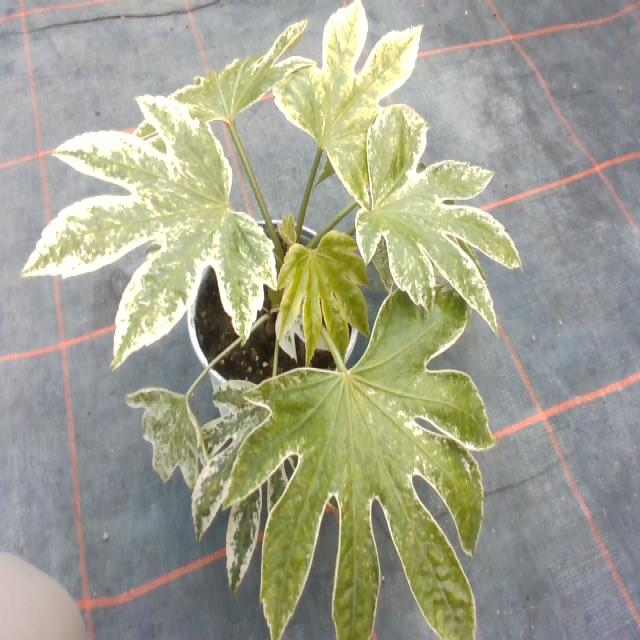Fatsia-japonica: (214, 284, 534, 640), (26, 82, 273, 364), (350, 96, 522, 341), (269, 1, 420, 216), (198, 372, 339, 600), (115, 17, 316, 158), (269, 227, 378, 368), (114, 378, 215, 503)
